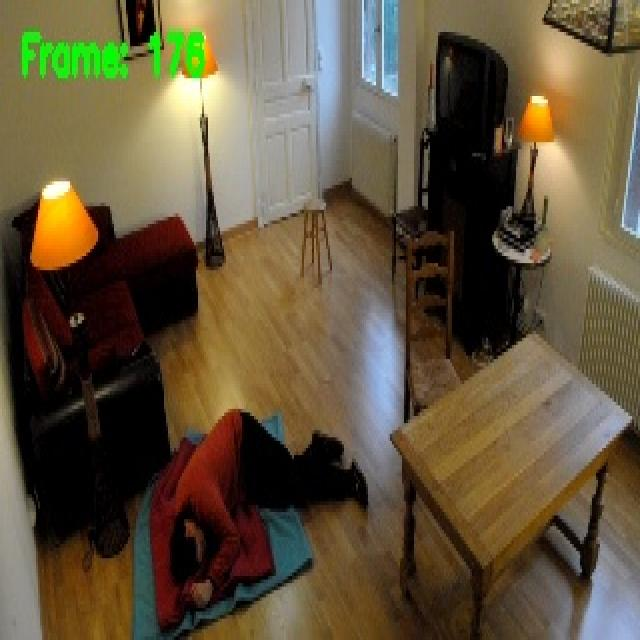Fall-Detected: (168, 405, 372, 617)
